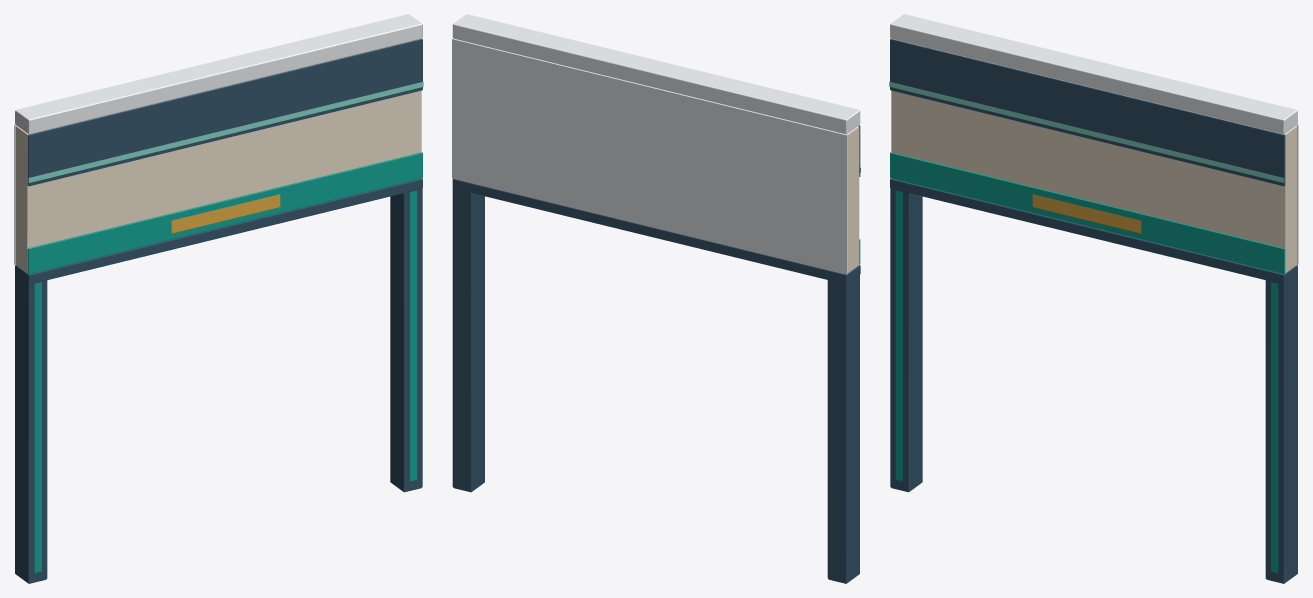
The model's file is CM_Shell_DoorFrame.fbx.
3 renders of one model, left to right at view 1: azimuth 30°, elevation 25°; view 2: azimuth 150°, elevation 25°; view 3: azimuth 330°, elevation 25°, orthographic.
Parts seen in each view (by area): view 1: Body; view 2: Body; view 3: Body.
Part boxes in pixels (x1,y1,x2,y2): Body: [14, 14, 423, 583]; Body: [452, 14, 860, 583]; Body: [889, 14, 1298, 583].
Size of the model in its own units: 16 by 1 by 18.
1 material, 1 textured.
